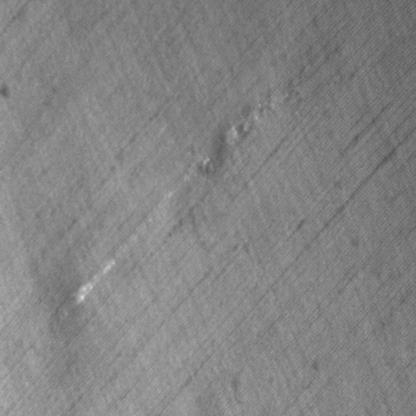thread error: (51, 75, 303, 334)
